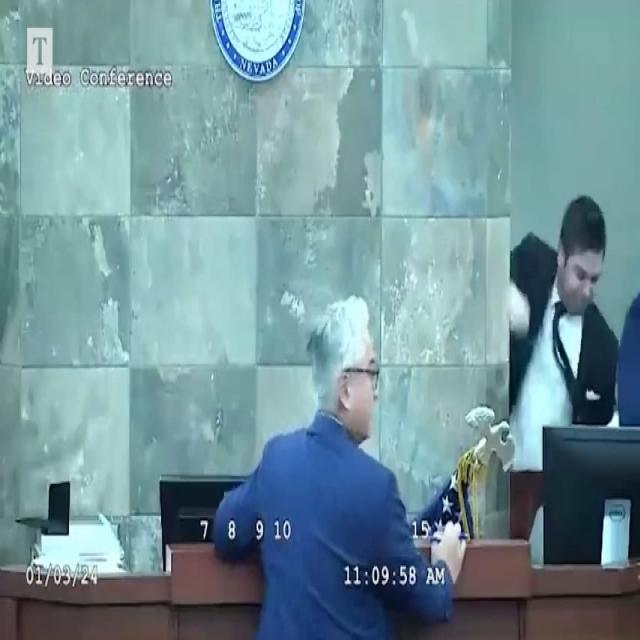fight: (496, 196, 640, 566)
non-fight: (199, 287, 469, 640)
